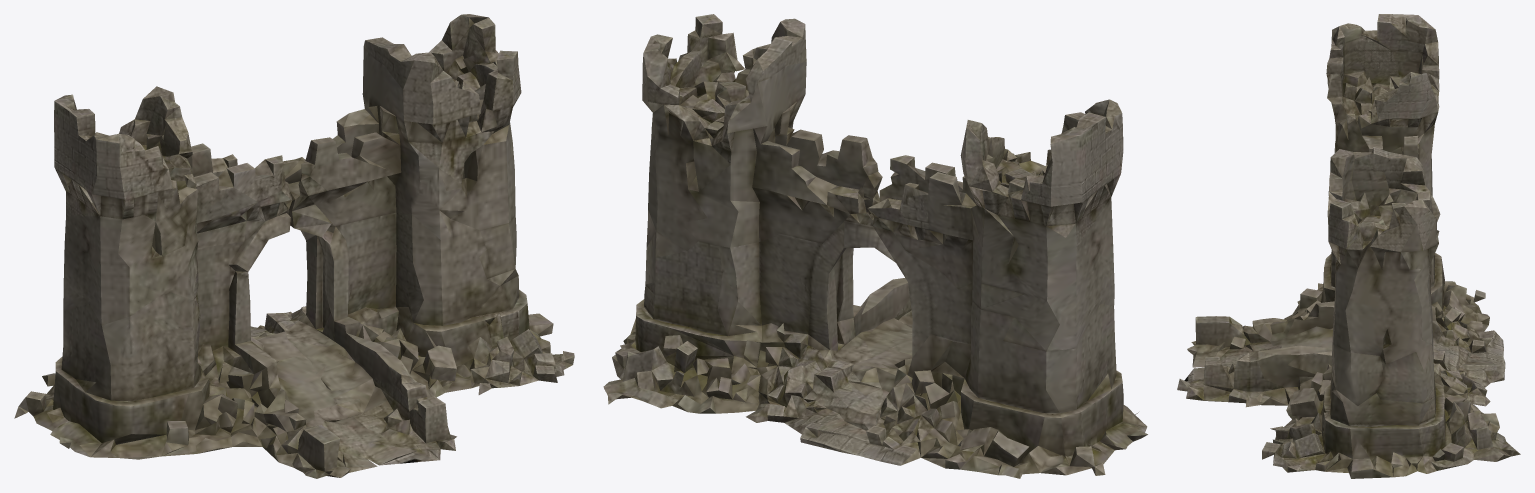
Rendered from inner_gate_destroyed.glb.
3 renders of one model, left to right at view 1: azimuth 30°, elevation 25°; view 2: azimuth 150°, elevation 25°; view 3: azimuth 270°, elevation 25°, orthographic. The views are drawn at different scales.
Parts seen in each view (by area): view 1: output_unwrapped; view 2: output_unwrapped; view 3: output_unwrapped.
Part boxes in pixels (<box>): output_unwrapped: <box>14,14,574,478</box>; output_unwrapped: <box>603,14,1147,478</box>; output_unwrapped: <box>1177,14,1520,478</box>.
Size of the model in its own units: 1.8 by 1.11 by 1.27.
Materials: 1 (1 with a texture image).
